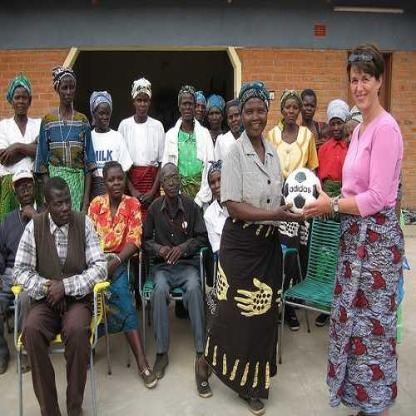ball: (284, 168, 320, 219)
